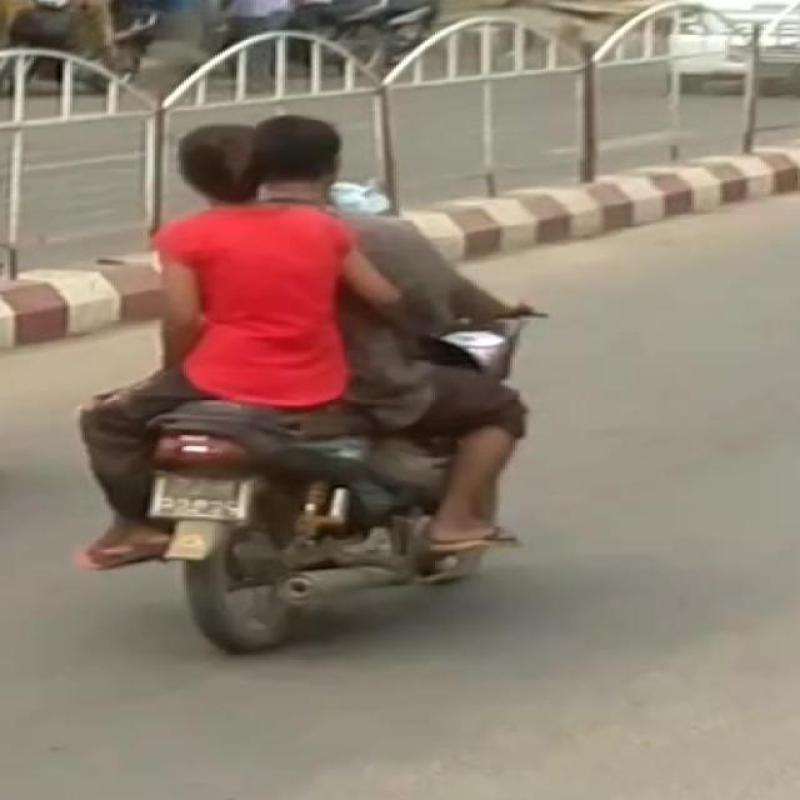nohelmet: (156, 103, 359, 218)
